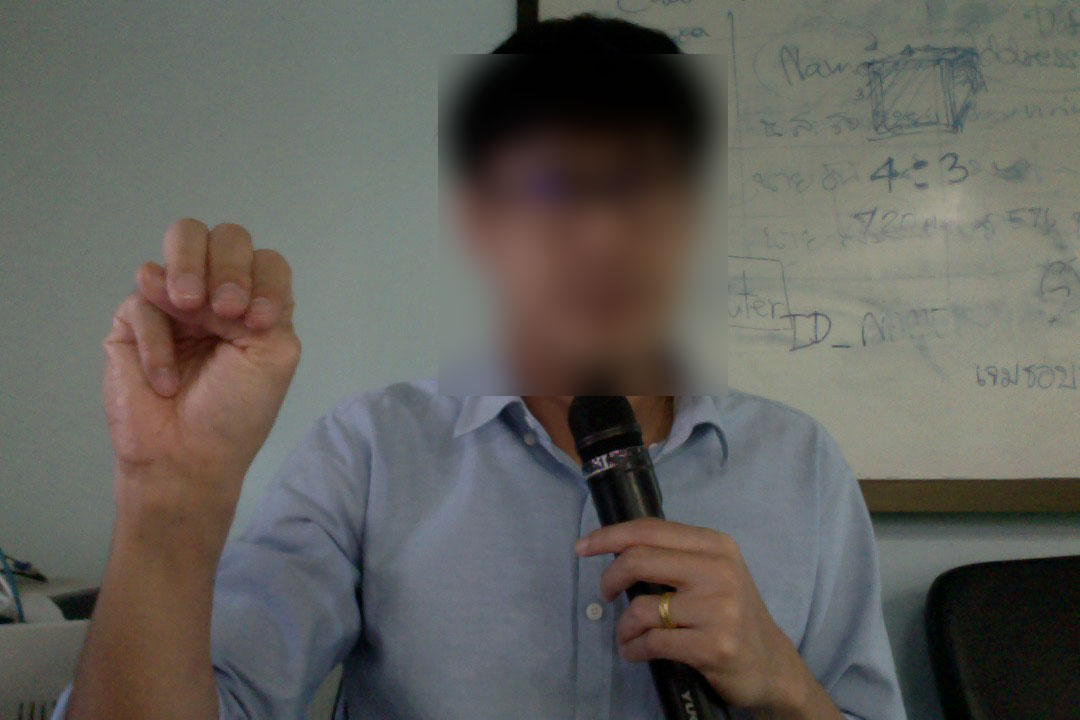mor: (85, 199, 322, 539)
